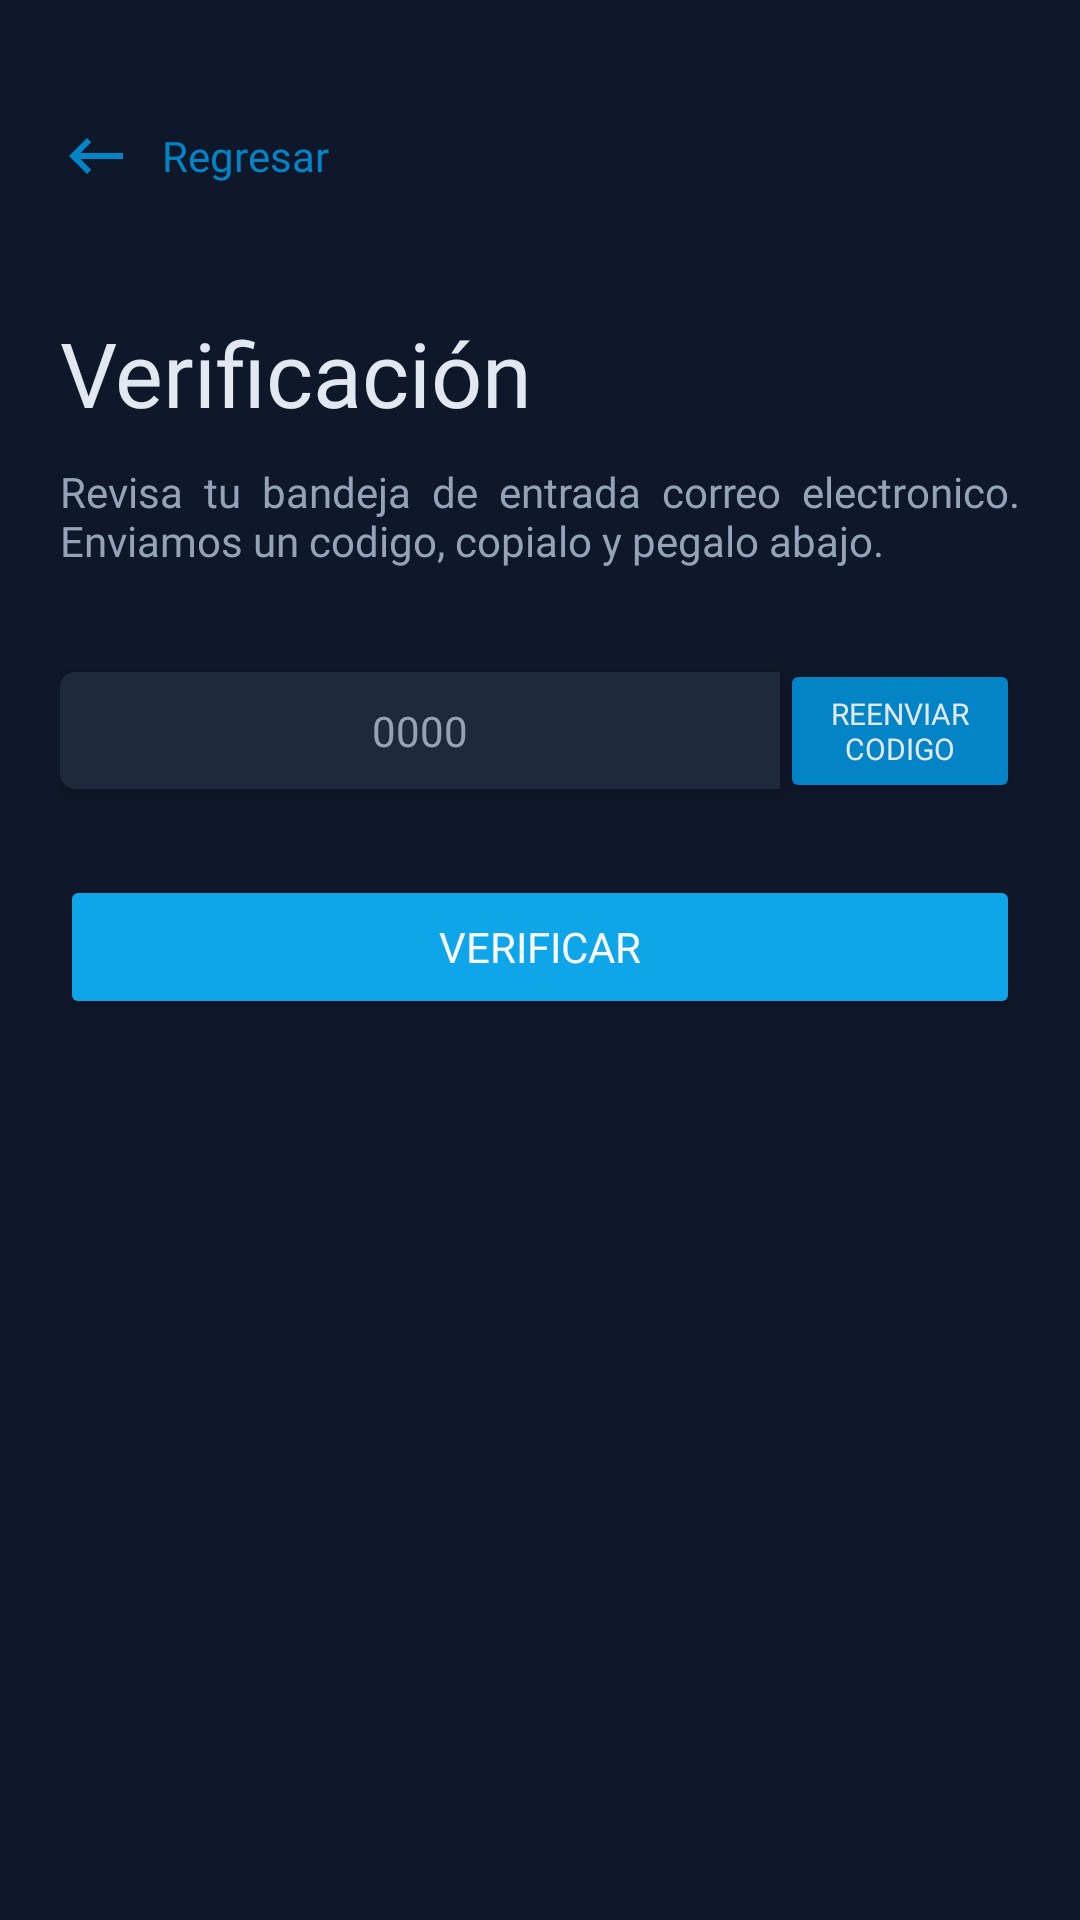

Named icons in this screenshot (1080×1920) and their bounding boxes, bbox(x1, y1, x2, y2):
keyboard backspace: bbox(69, 138, 123, 174)
